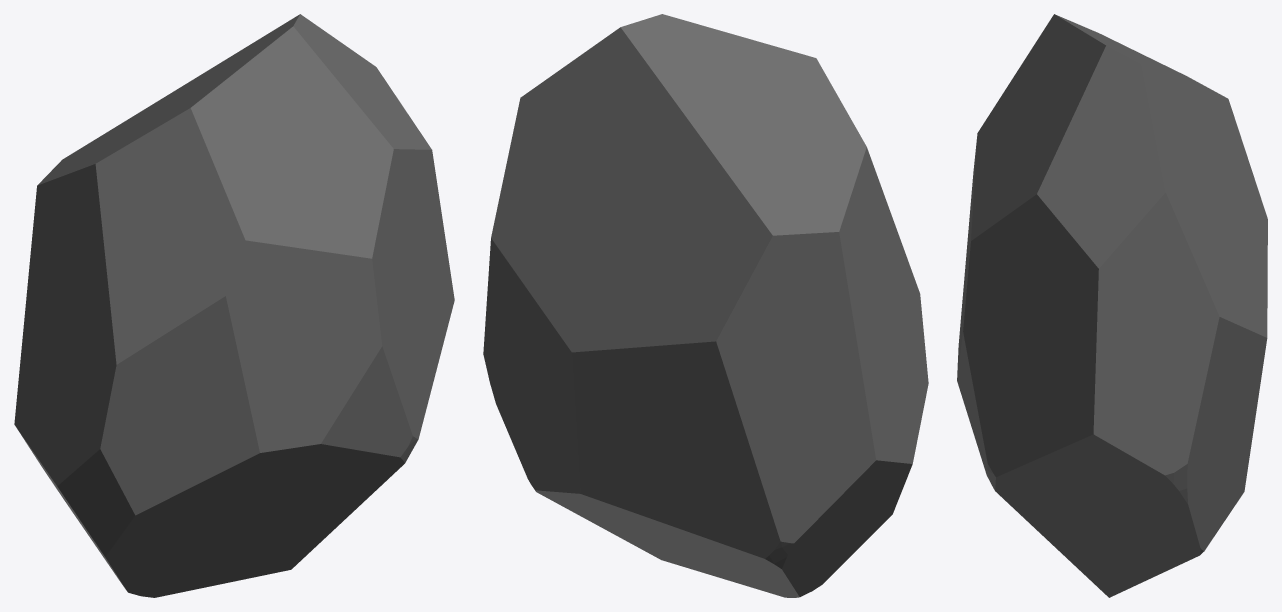
File: Rock3.fbx
The picture shows the model from 3 angles, left to right: view 1: azimuth 30°, elevation 25°; view 2: azimuth 150°, elevation 25°; view 3: azimuth 270°, elevation 25°; orthographic projection.
Parts seen in each view (by area): view 1: Big Rock 3; view 2: Big Rock 3; view 3: Big Rock 3.
Part boxes in pixels (x1,y1,x2,y2): Big Rock 3: (14, 14, 454, 597); Big Rock 3: (483, 14, 928, 597); Big Rock 3: (957, 14, 1267, 597).
Size of the model in its own units: 199 by 302 by 392.
